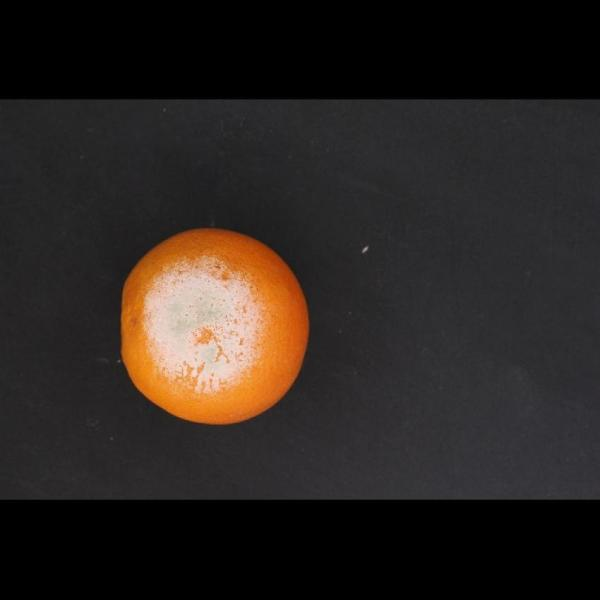Moho verde: (98, 216, 324, 426)
